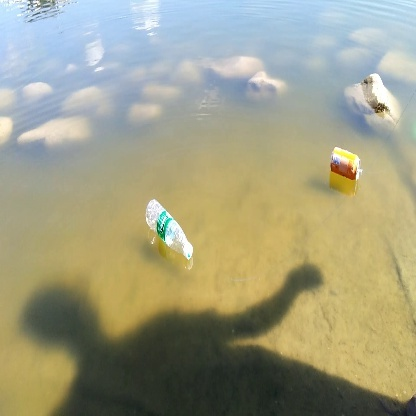bottle: (141, 196, 201, 264), (323, 138, 374, 190)
